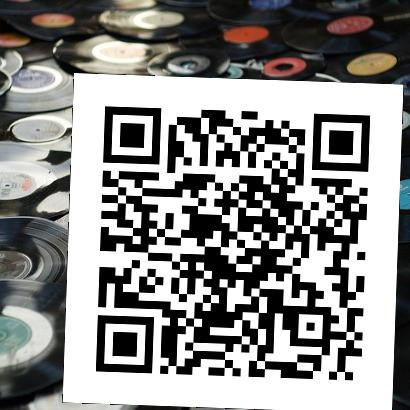qr_code: (62, 70, 403, 410)
